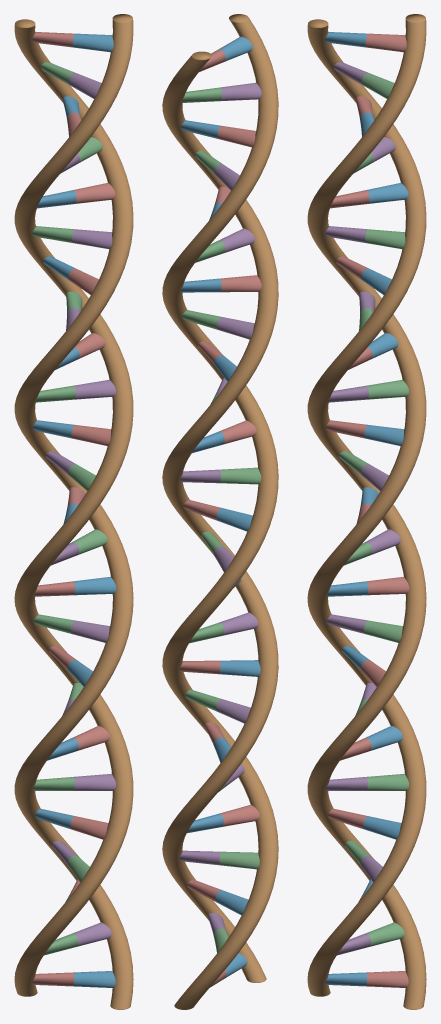
Rendered from DNA2.glb.
3 views of the same model, side by side, from view 1: azimuth 90°, elevation 25°; view 2: azimuth 150°, elevation 25°; view 3: azimuth 270°, elevation 25° (orthographic). The views are drawn at different scales.
Visible parts, largest first — view 1: Strand, Adenine, Thymine, Cytosine, Guanine; view 2: Strand, Cytosine, Thymine, Adenine, Guanine; view 3: Strand, Thymine, Adenine, Guanine, Cytosine.
Boxes of the visible parts, x1,y1,x2,y2 form: Strand: [14, 14, 133, 1009]; Adenine: [31, 32, 115, 986]; Thymine: [32, 33, 116, 987]; Cytosine: [45, 73, 115, 946]; Guanine: [32, 61, 107, 955]; Strand: [162, 14, 278, 1009]; Cytosine: [179, 82, 261, 934]; Thymine: [180, 36, 260, 978]; Adenine: [179, 49, 261, 987]; Guanine: [181, 87, 261, 952]; Strand: [307, 14, 426, 1009]; Thymine: [324, 32, 408, 986]; Adenine: [325, 33, 409, 987]; Guanine: [338, 73, 408, 946]; Cytosine: [325, 61, 400, 955].
Size of the model in its own units: 2 by 18.09 by 2.
